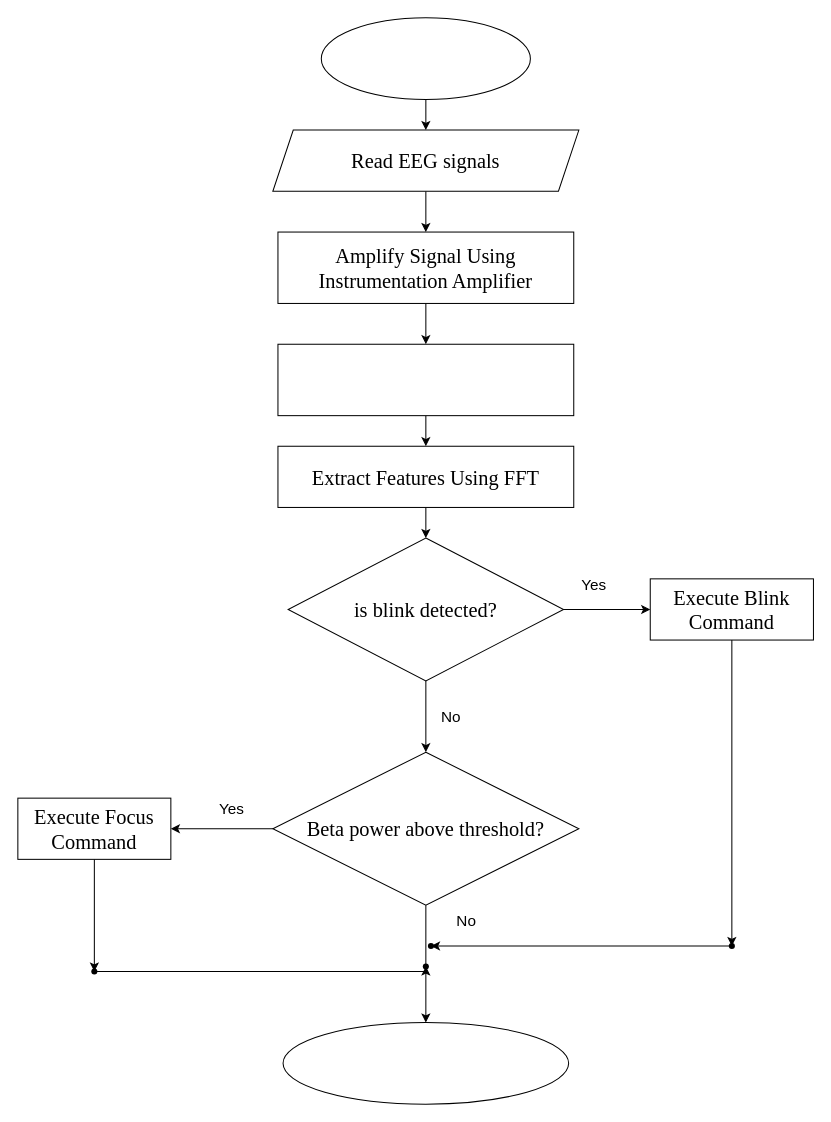
This 831x1122 diagram has some shape labels left out. The box of each missing label's shape, as (x1, y1, x2, y2) in pixels:
Remove unwanted and power line frequencies: (277, 343, 574, 416)
Start: (320, 17, 530, 99)
stop: (282, 1022, 569, 1104)
